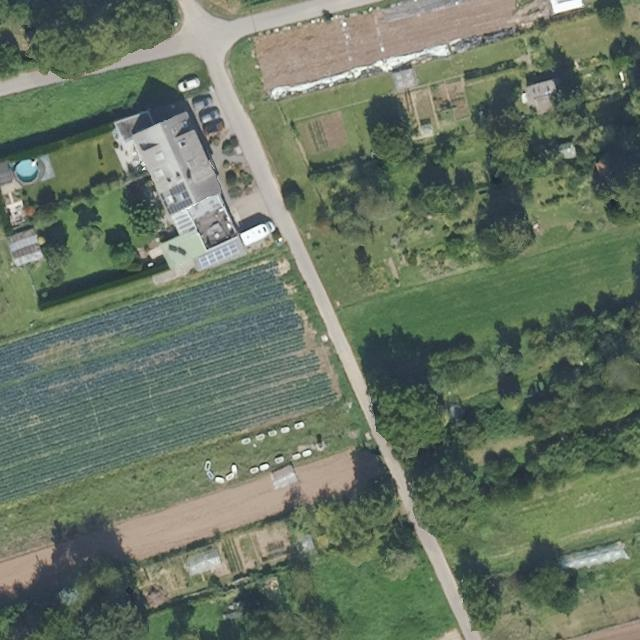PV: (159, 181, 195, 217), (198, 243, 239, 268)
